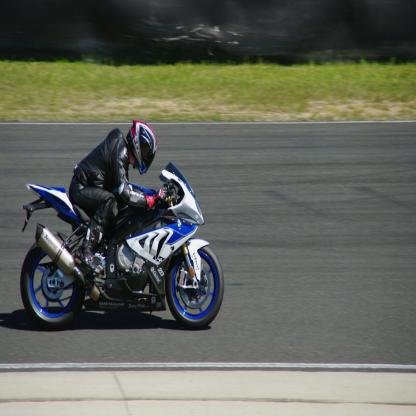Helmet: (122, 126, 155, 174)
